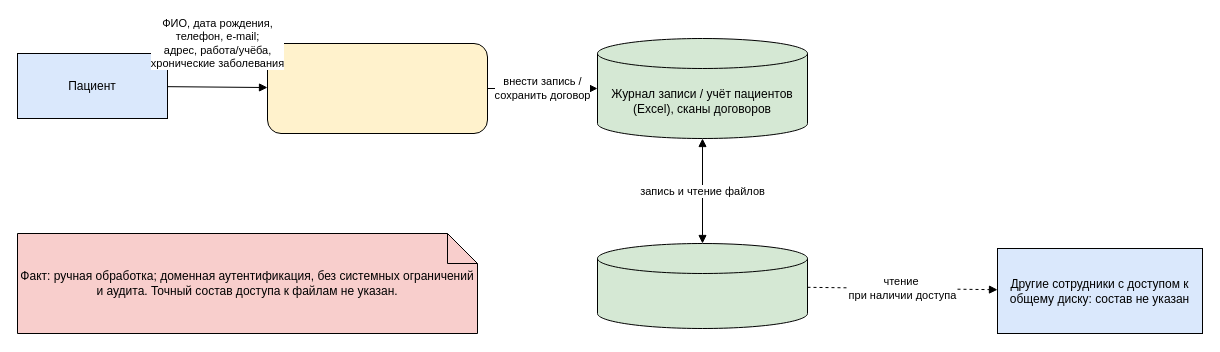
This 1220x352 diagram has some shape labels left out. The shapes that lost their labels are listed below. From the top down, each one's centre as x and y in pixels, then its label:
At pixel 377 88: "Ресепшен: принимает сведения, ведёт запись, оформляет договор".
At pixel 702 285: "Общий диск на локальном файловом сервере".
